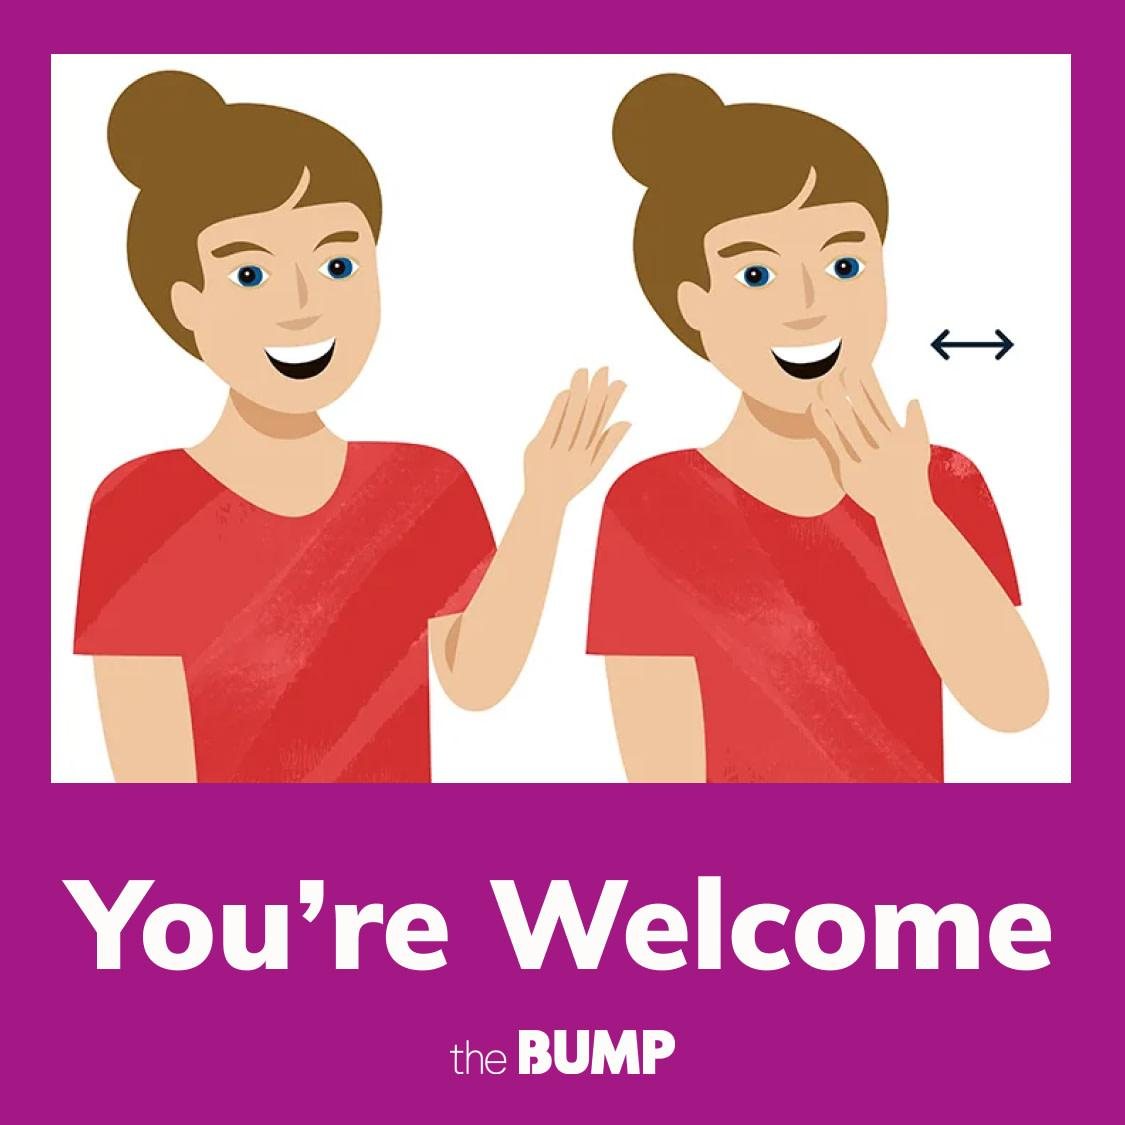Thankyou: (793, 355, 997, 617)
